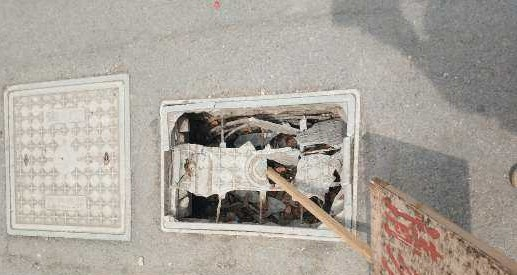broke: (158, 93, 358, 241)
good: (3, 74, 132, 242)
